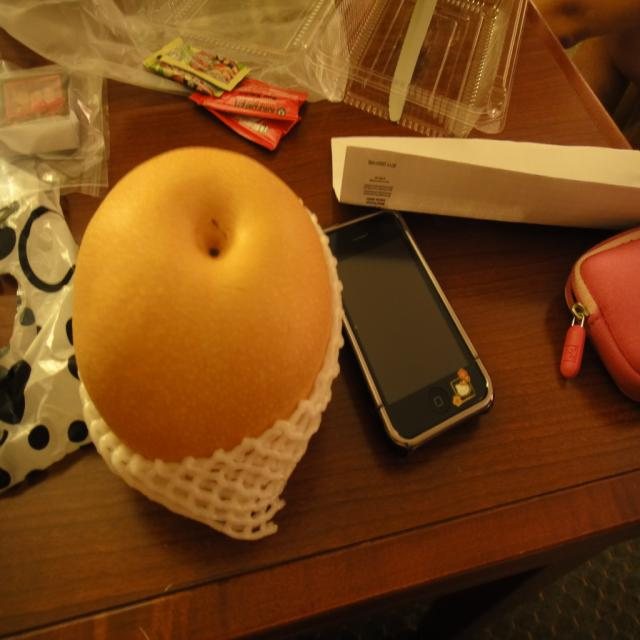Mobile phone: (340, 215, 495, 450)
